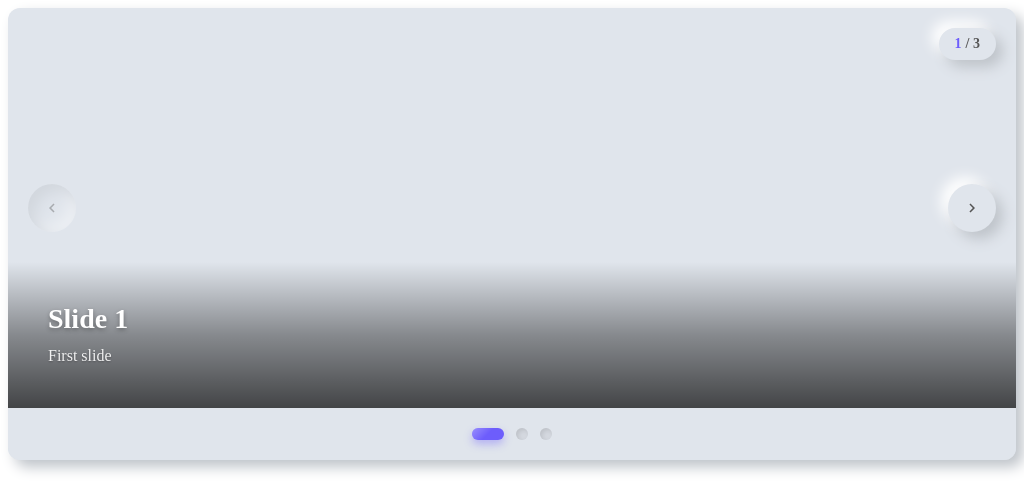
it: Carousel › navigates using dot buttons
The image size is (1024, 491).
Click the tab named "Go to slide 3" at (546,434), box [540,428,552,440]
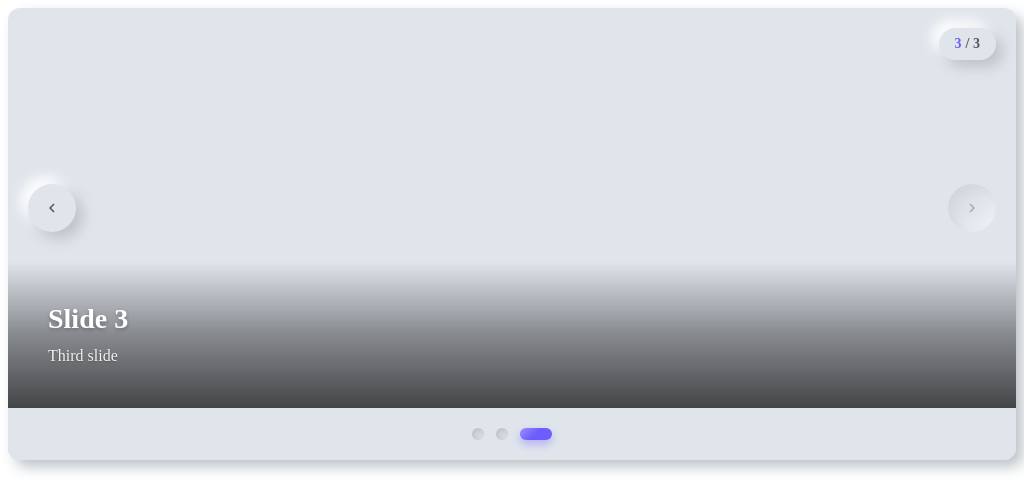
Expected: the text "3" is shown, [955,36,962,52]
